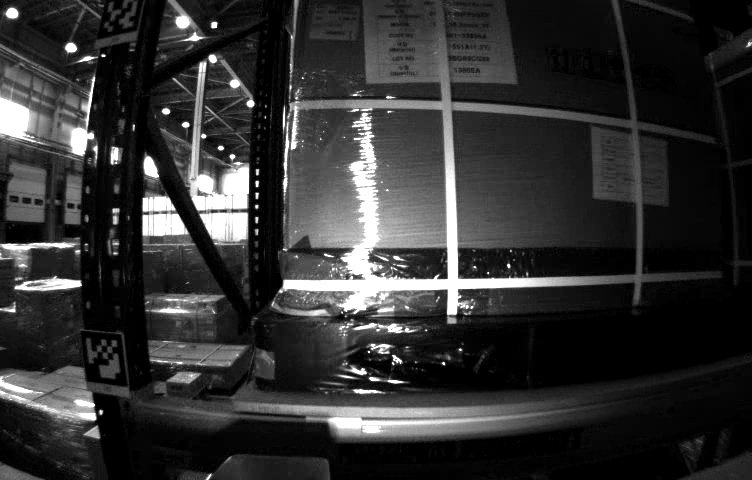True Barcode: (313, 1, 361, 41)
